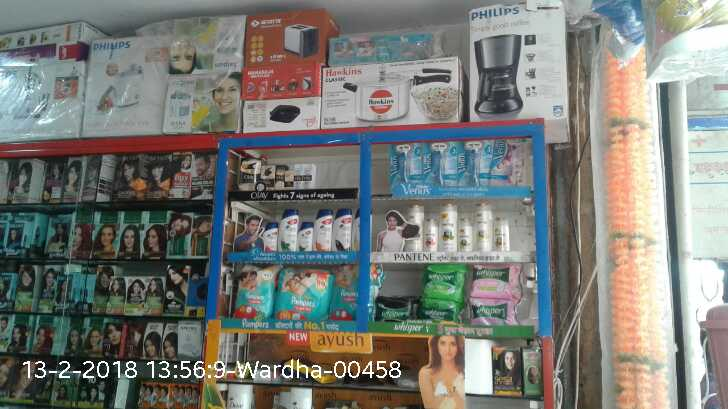venus: (488, 138, 529, 188), (426, 140, 459, 185), (389, 146, 426, 185), (459, 140, 484, 186)
